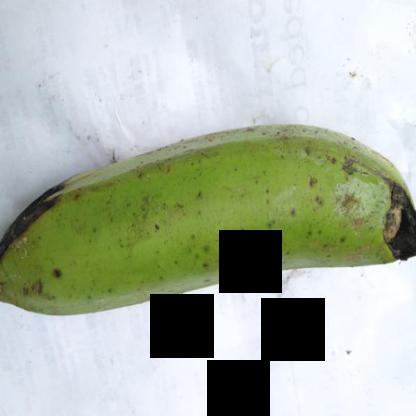rotten: (1, 171, 78, 303)
unripe: (1, 94, 415, 351)
